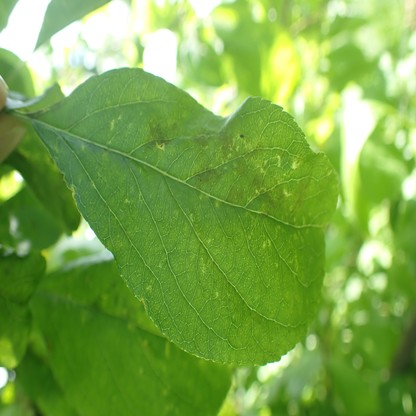scab: (253, 180, 287, 218), (146, 120, 175, 152), (291, 180, 313, 222), (194, 166, 223, 194), (219, 126, 236, 156), (191, 125, 212, 145), (240, 142, 263, 158), (232, 162, 246, 179), (231, 184, 243, 199)
